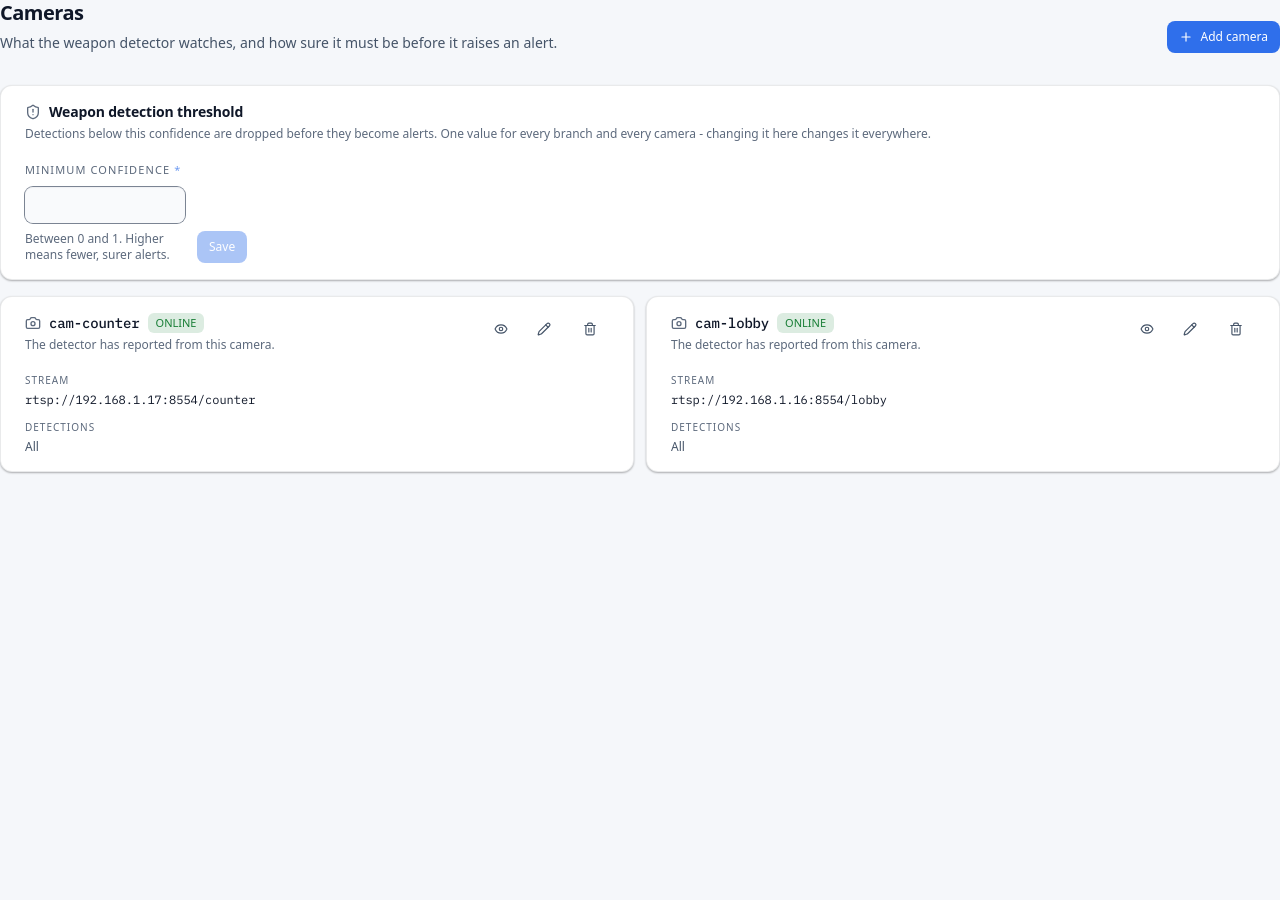
it: Cameras › explains a stream already used by a camera at another branch
This screenshot has width=1280, height=900.
Check: the heading "cam-lobby" is shown, box [695, 313, 769, 333]
Click the button "Add camera": click(1223, 37) [1166, 21, 1279, 53]
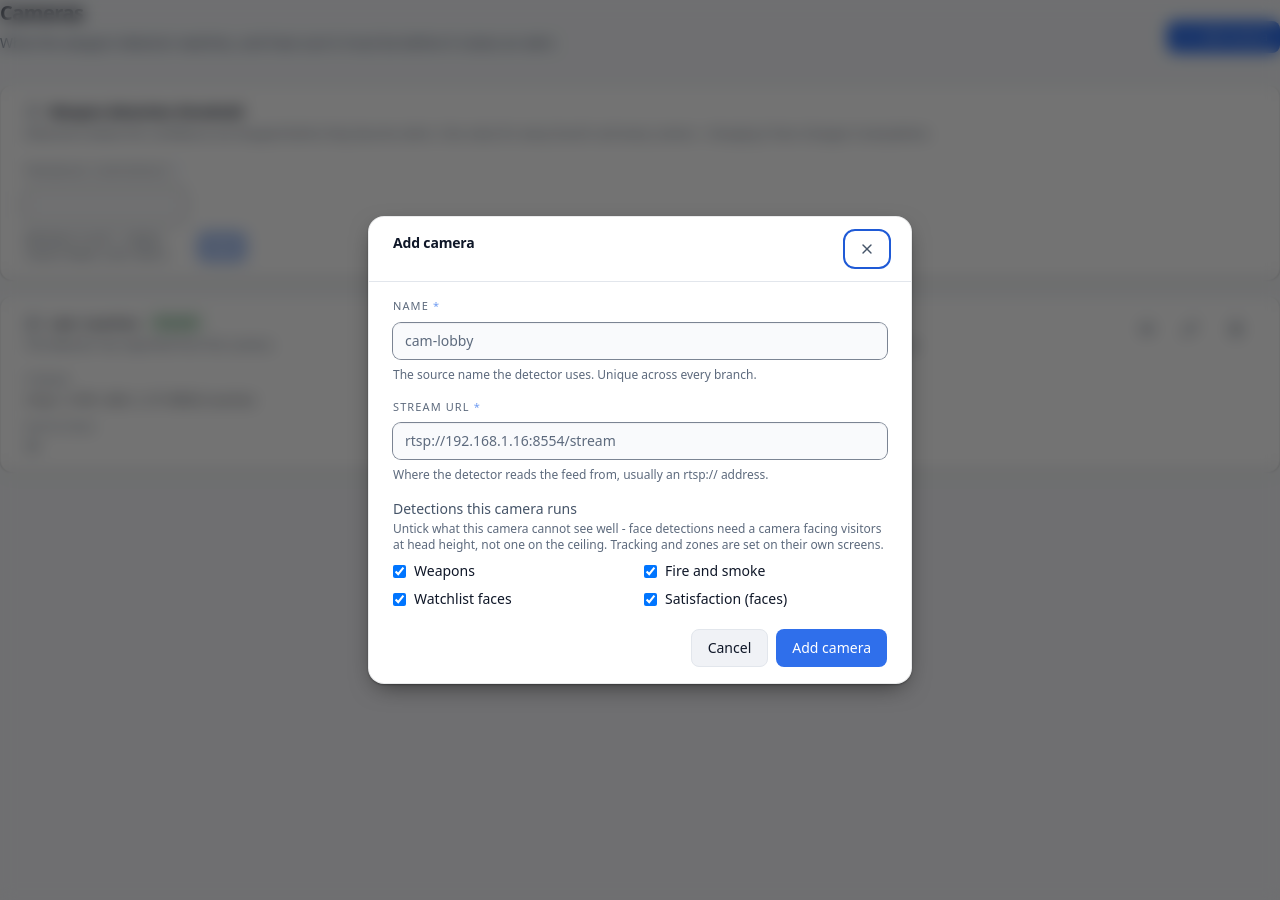
In the field labelled "Name*": (640, 340) [393, 322, 887, 358], type "cam-new"
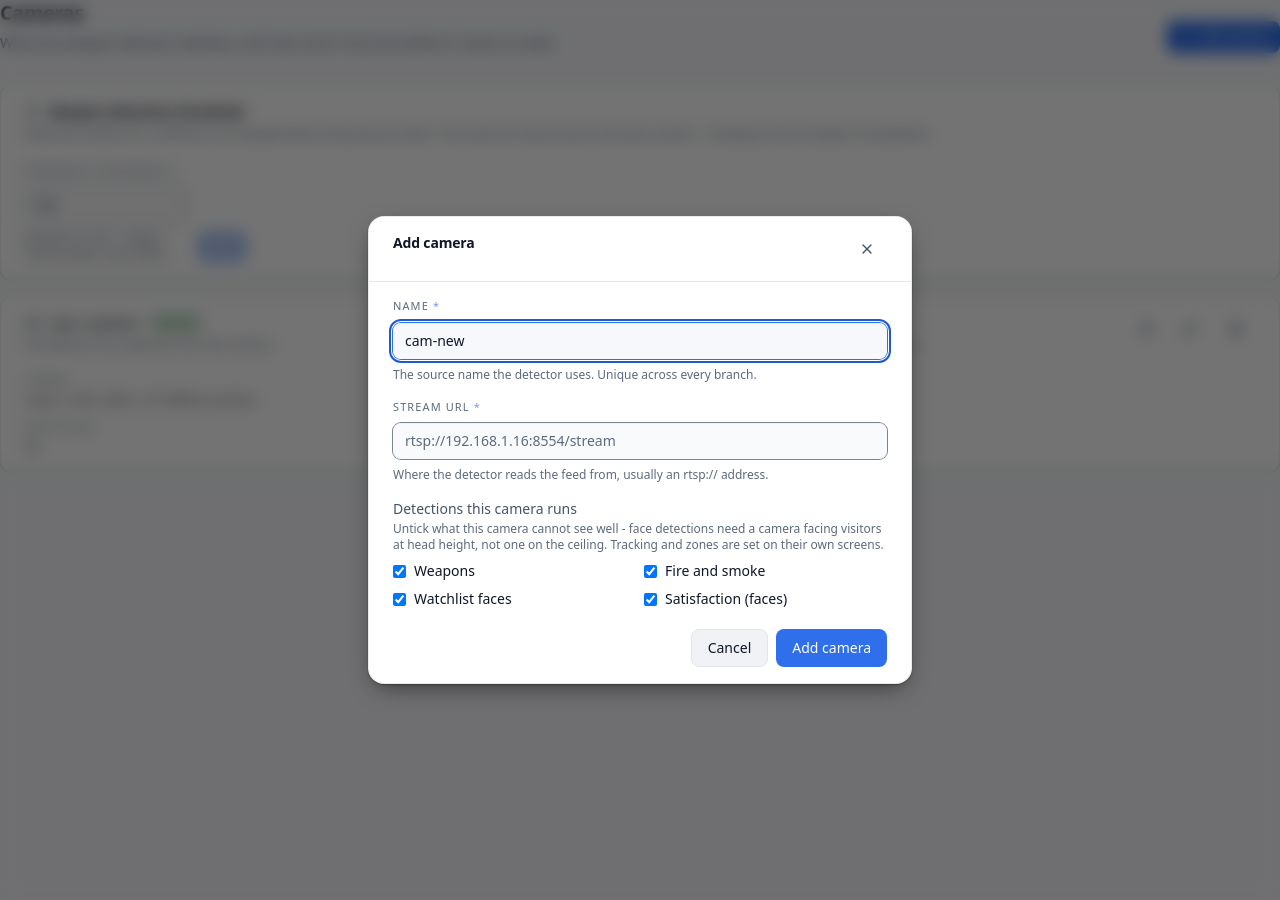
In the field labelled "Stream URL*": (640, 441) [393, 423, 887, 459], type "rtsp://192.168.2.10:8554/store"
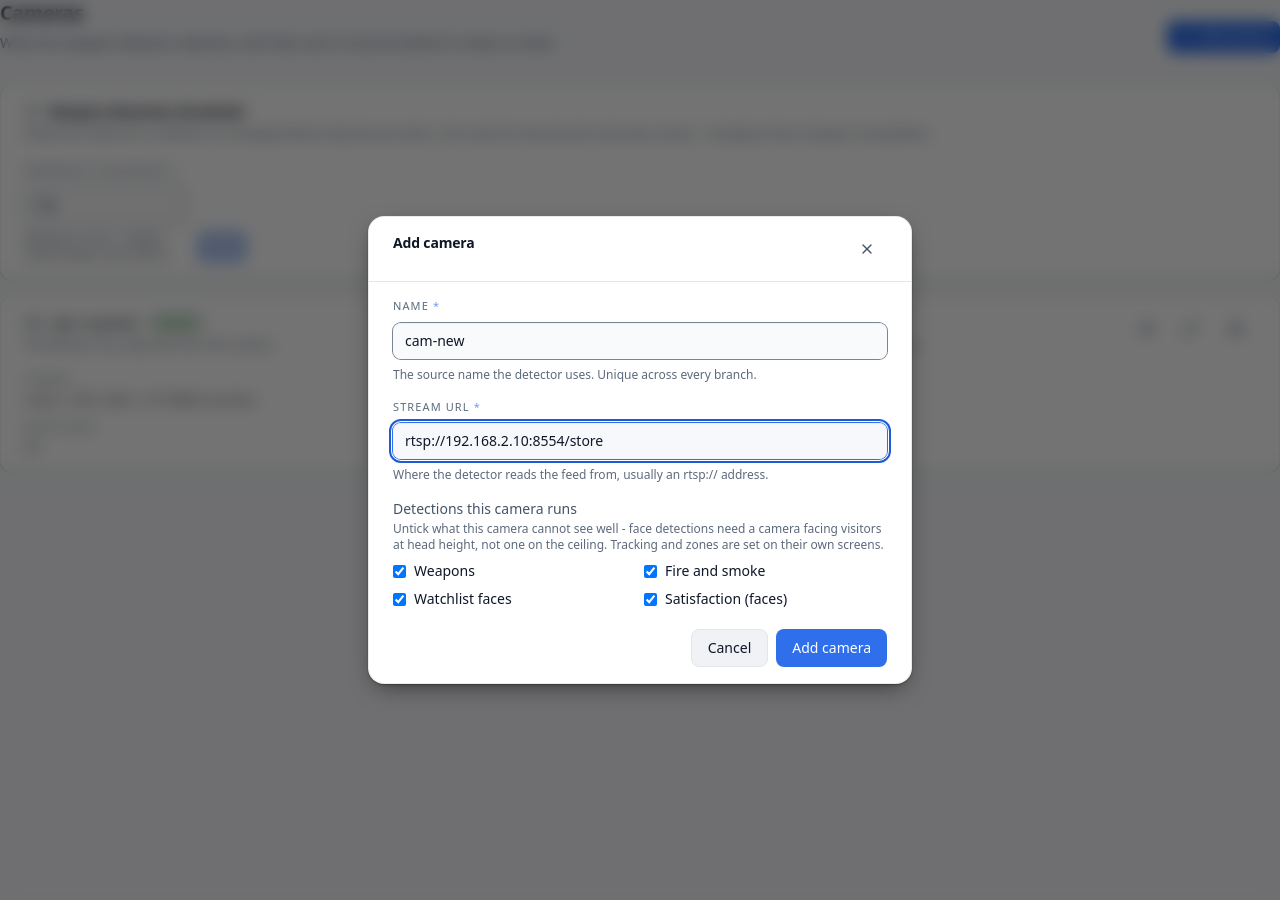
Click the button "Add camera": click(832, 648) [776, 629, 887, 667]
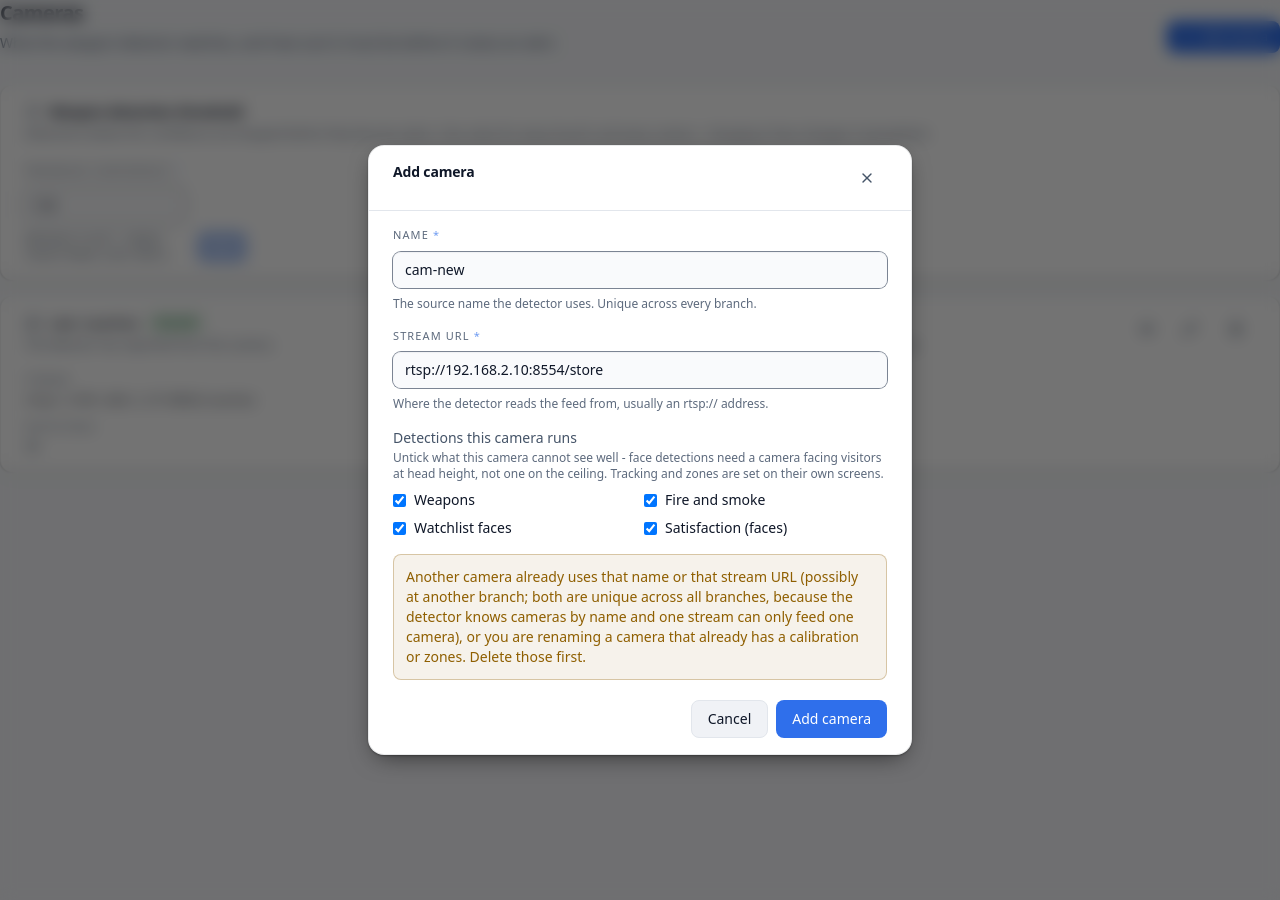
Check: the message shows "that stream URL", box [406, 567, 859, 666]
